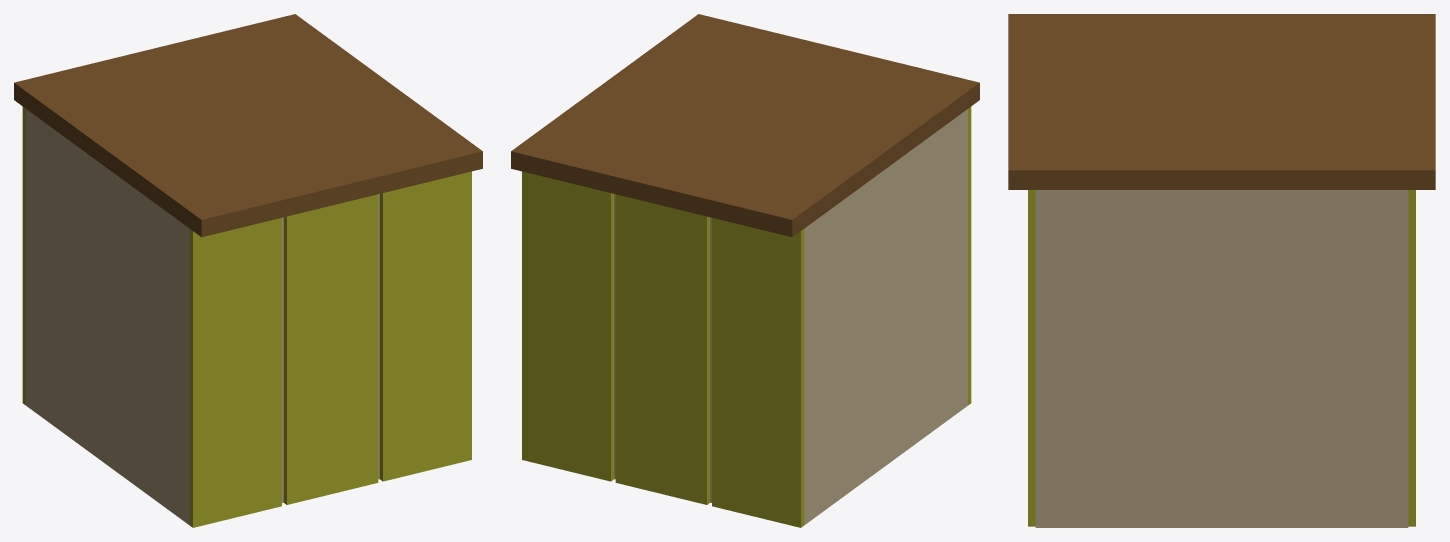
Rendered from Bar_SingleBlock.fbx.
3 views of the same model, side by side, from view 1: azimuth 30°, elevation 25°; view 2: azimuth 150°, elevation 25°; view 3: azimuth 270°, elevation 25° (orthographic). The views are drawn at different scales.
Parts seen in each view (by area): view 1: polySurface7405; view 2: polySurface7405; view 3: polySurface7405.
Part boxes in pixels (<box>): polySurface7405: <box>14,14,482,527</box>; polySurface7405: <box>511,14,979,527</box>; polySurface7405: <box>1008,14,1435,527</box>.
Bounding box in the file's own units: 0.9917 × 1.06 × 1.15.
